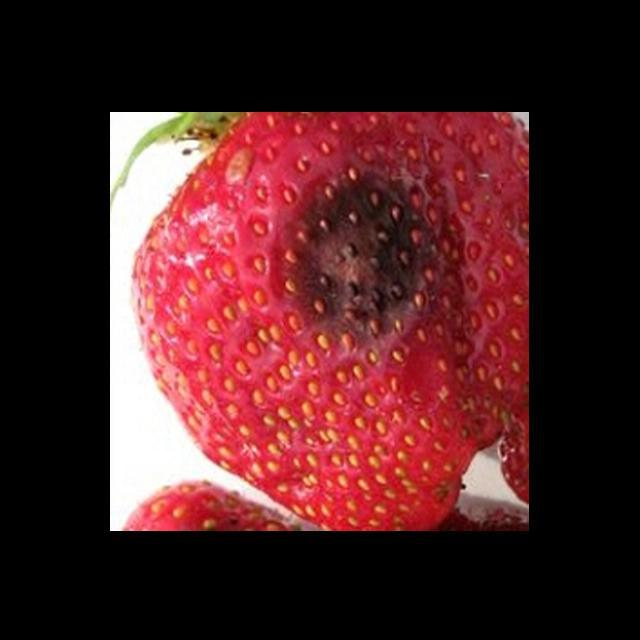Anthracnose Fruit Rot: (270, 160, 457, 354)
